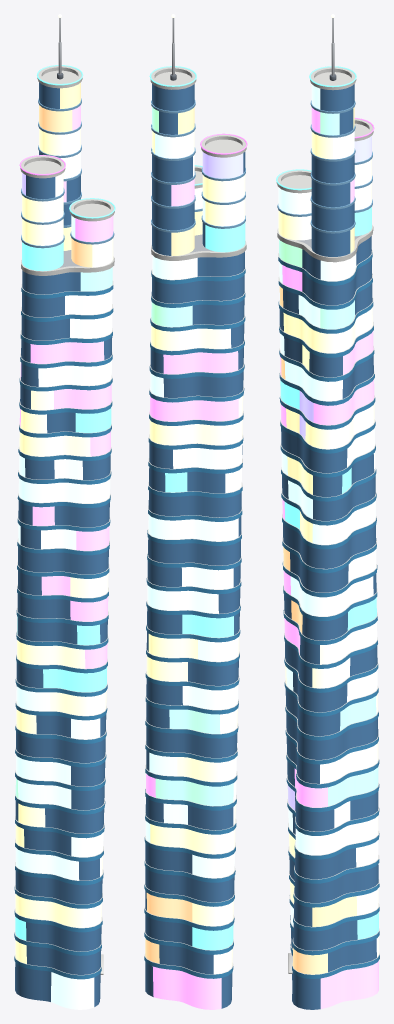
File: arranha_ceu_trevo.glb
3 renders of one model, left to right at view 1: azimuth 90°, elevation 25°; view 2: azimuth 210°, elevation 25°; view 3: azimuth 270°, elevation 25°, orthographic. The views are drawn at different scales.
Visible parts, largest first — view 1: arranha_ceu_trevo; view 2: arranha_ceu_trevo; view 3: arranha_ceu_trevo.
Boxes of the visible parts, x1,y1,x2,y2 form: arranha_ceu_trevo: (14,14,115,1009); arranha_ceu_trevo: (144,14,247,1009); arranha_ceu_trevo: (276,14,379,1009).
Size of the model in its own units: 12.15 by 132 by 12.57.
Materials: 12 (1 with a texture image).
